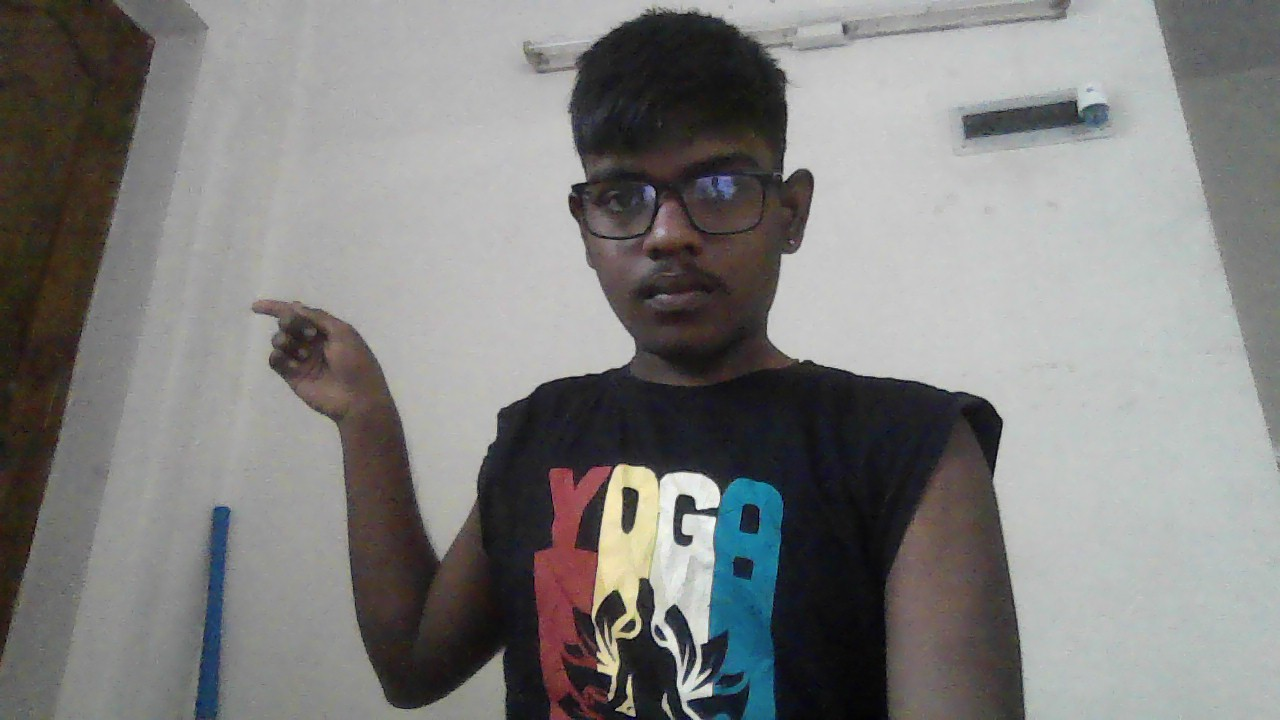G: (250, 297, 384, 420)
